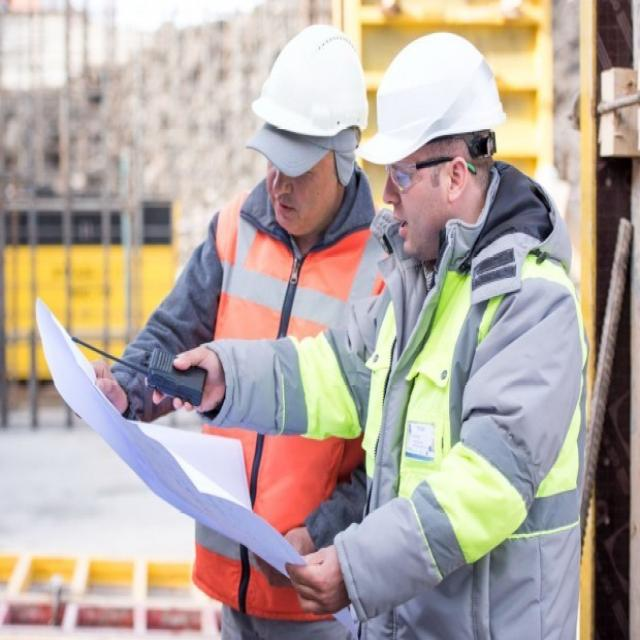secure person: (200, 33, 585, 640), (96, 28, 374, 424), (234, 434, 361, 534), (194, 545, 302, 617)
